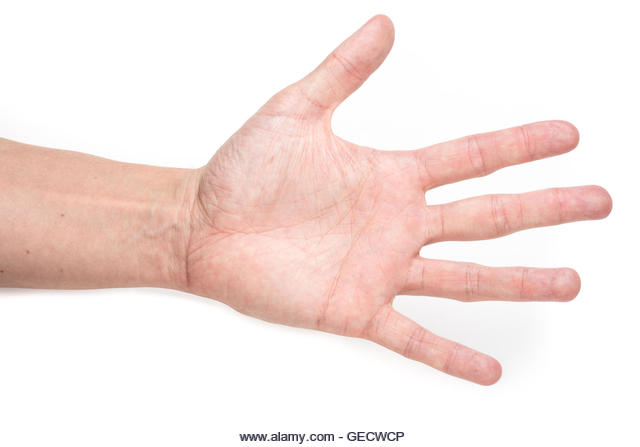hand: (153, 2, 628, 398)
